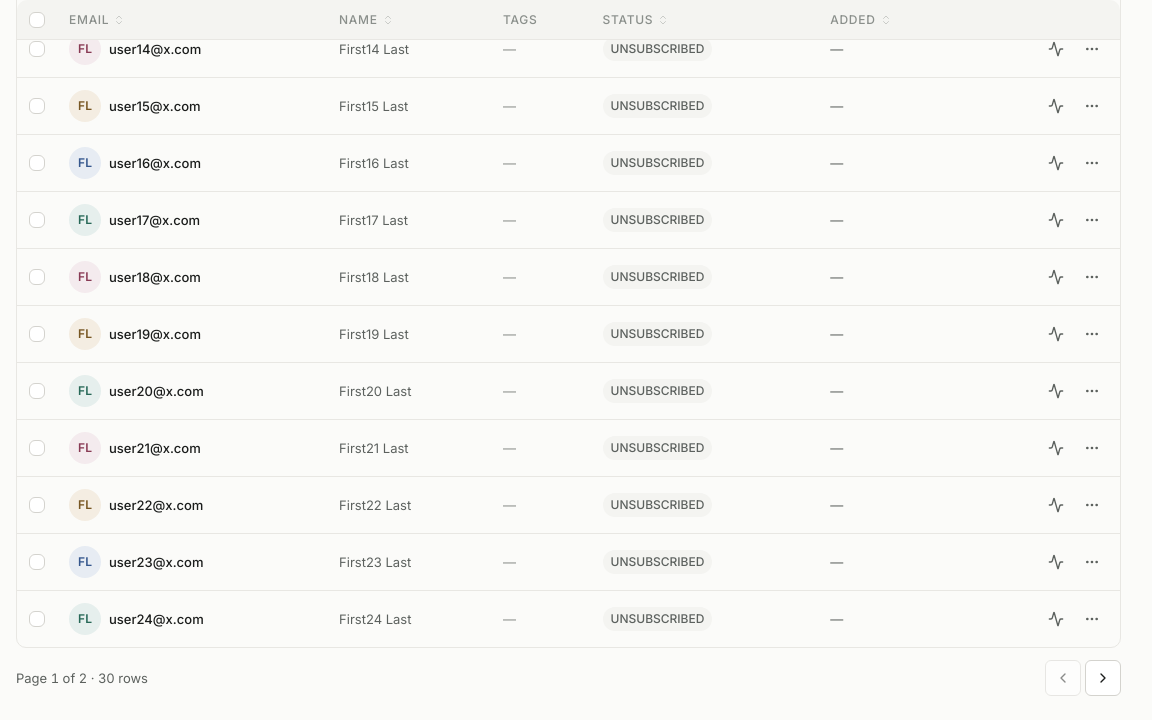
Test: Contacts › paginates when there are more than a page of contacts
(page scrolled)
Expected: the text "Page 1 of 2 · 30 rows" is shown, [16,669,148,687]
Click the button named "Next page" at (1103, 678), box [1085,660,1121,696]
(page scrolled)
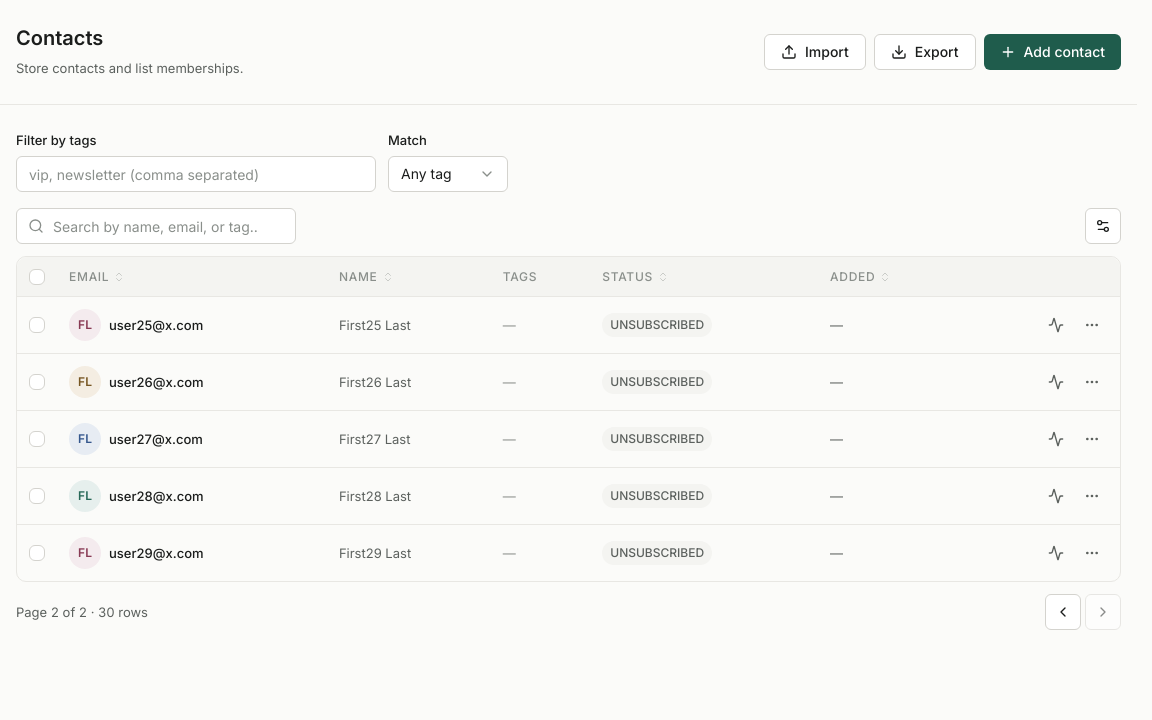
Result: the text "Page 2 of 2 · 30 rows" is shown at [16,603,148,621]
